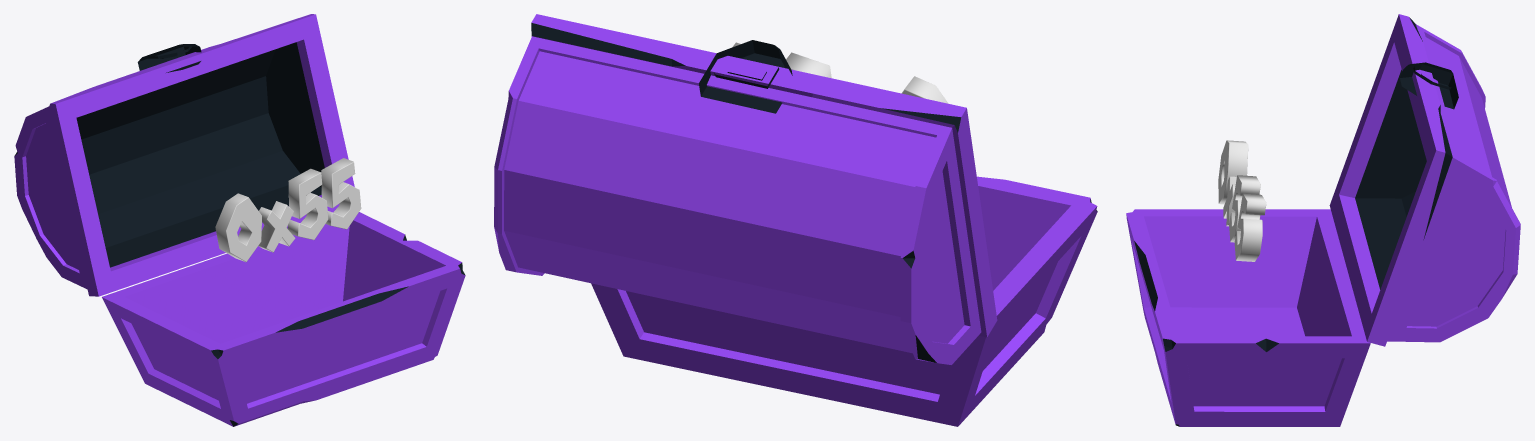
File: blue_chest.glb
The picture shows the model from 3 angles, left to right: view 1: azimuth 30°, elevation 25°; view 2: azimuth 150°, elevation 25°; view 3: azimuth 270°, elevation 25°; orthographic projection. The views are drawn at different scales.
Visible parts, largest first — view 1: Plane.002, Text; view 2: Plane.002, Text; view 3: Plane.002, Text.
Part boxes in pixels (x1=…): Plane.002: x1=14, y1=14, x2=465, y2=426; Text: x1=215, y1=158, x2=361, y2=262; Plane.002: x1=494, y1=14, x2=1097, y2=426; Text: x1=732, y1=42, x2=948, y2=103; Plane.002: x1=1126, y1=14, x2=1520, y2=426; Text: x1=1218, y1=140, x2=1266, y2=261.
Size of the model in its own units: 4.91 by 4.26 by 5.09.
Materials: 2 (2 with a texture image).
